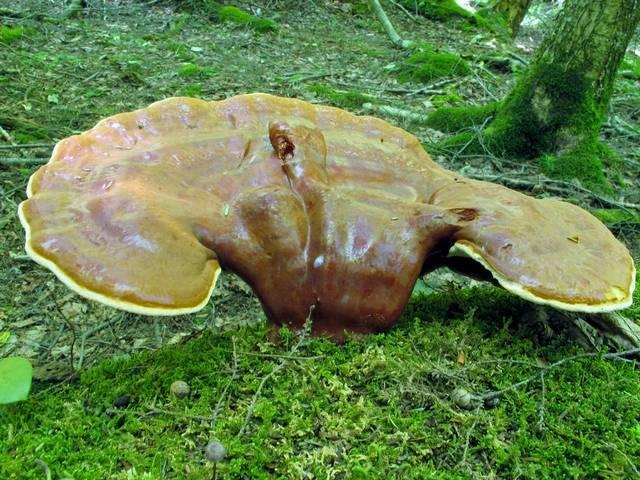poisonous_mushroom: (17, 91, 636, 346)
